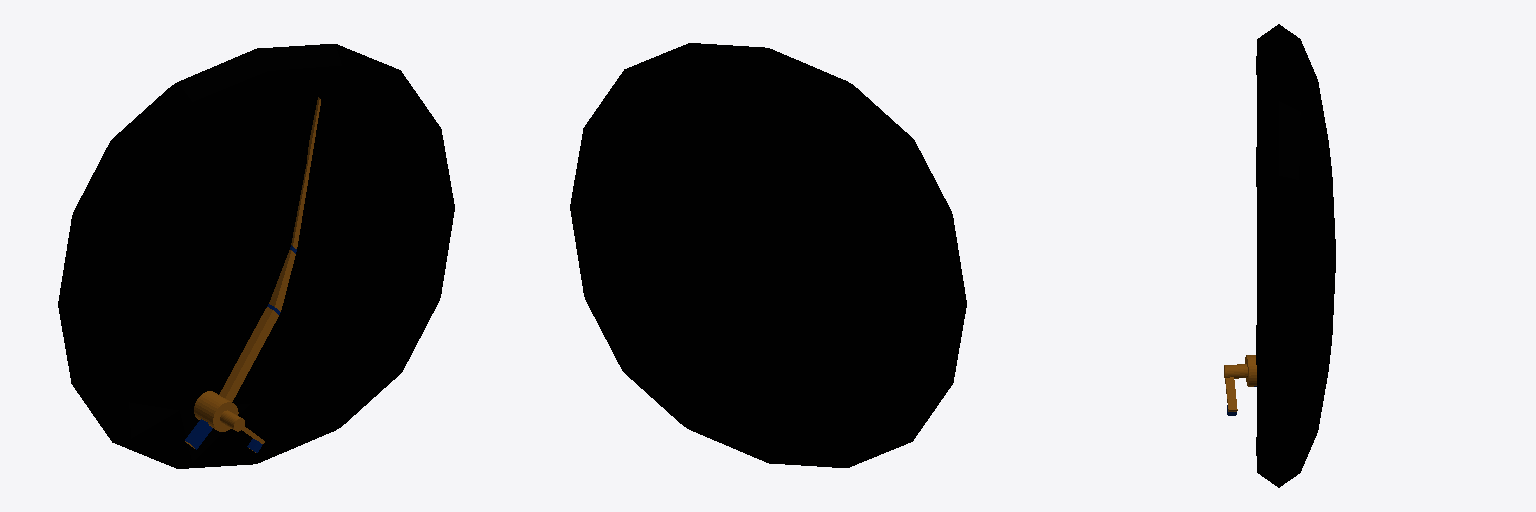
Rendered from fishing_rod.obj.
3 renders of one model, left to right at view 1: azimuth 30°, elevation 25°; view 2: azimuth 150°, elevation 25°; view 3: azimuth 270°, elevation 25°, orthographic.
Parts seen in each view (by area): view 1: base_Cube, fishing_rod_Cube.001; view 2: base_Cube; view 3: base_Cube, fishing_rod_Cube.001.
Boxes of the visible parts, <box> form: base_Cube: <box>58,44,454,468</box>; fishing_rod_Cube.001: <box>185,97,320,452</box>; base_Cube: <box>570,43,966,467</box>; base_Cube: <box>1256,24,1335,487</box>; fishing_rod_Cube.001: <box>1224,355,1256,415</box>.
Bounding box in the file's own units: 3.36 × 3.36 × 0.8242.